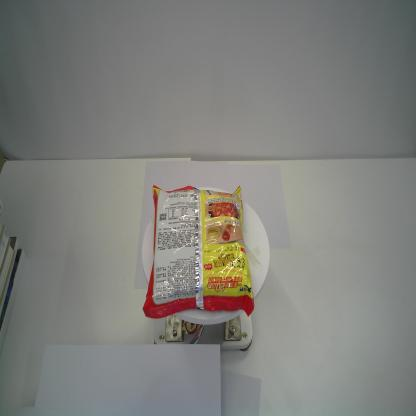Instant Noodles: (140, 183, 255, 319)
